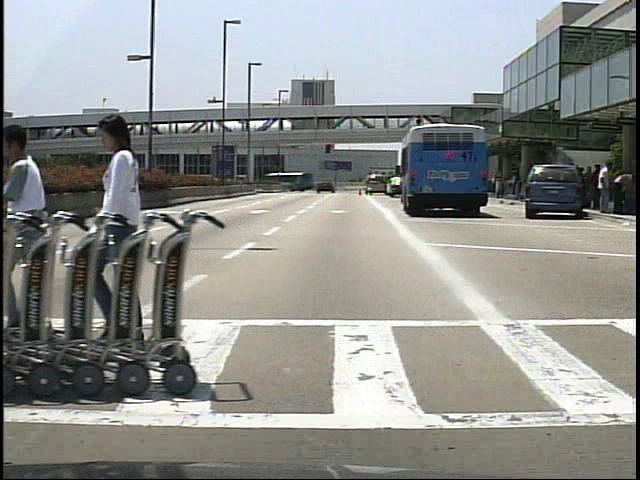person: (84, 107, 178, 352), (4, 121, 80, 340), (598, 160, 619, 214), (589, 163, 606, 216)
